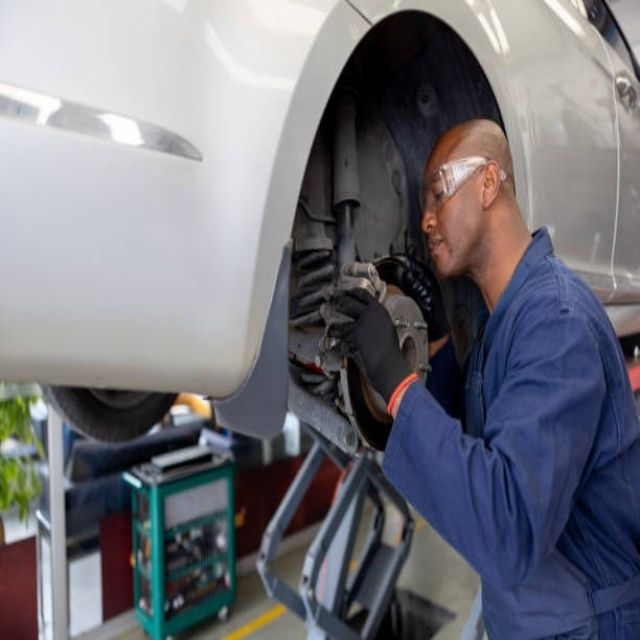Gafas: (421, 155, 506, 215)
Guantes: (323, 279, 422, 416)
Sin_mascara: (427, 232, 456, 271)
